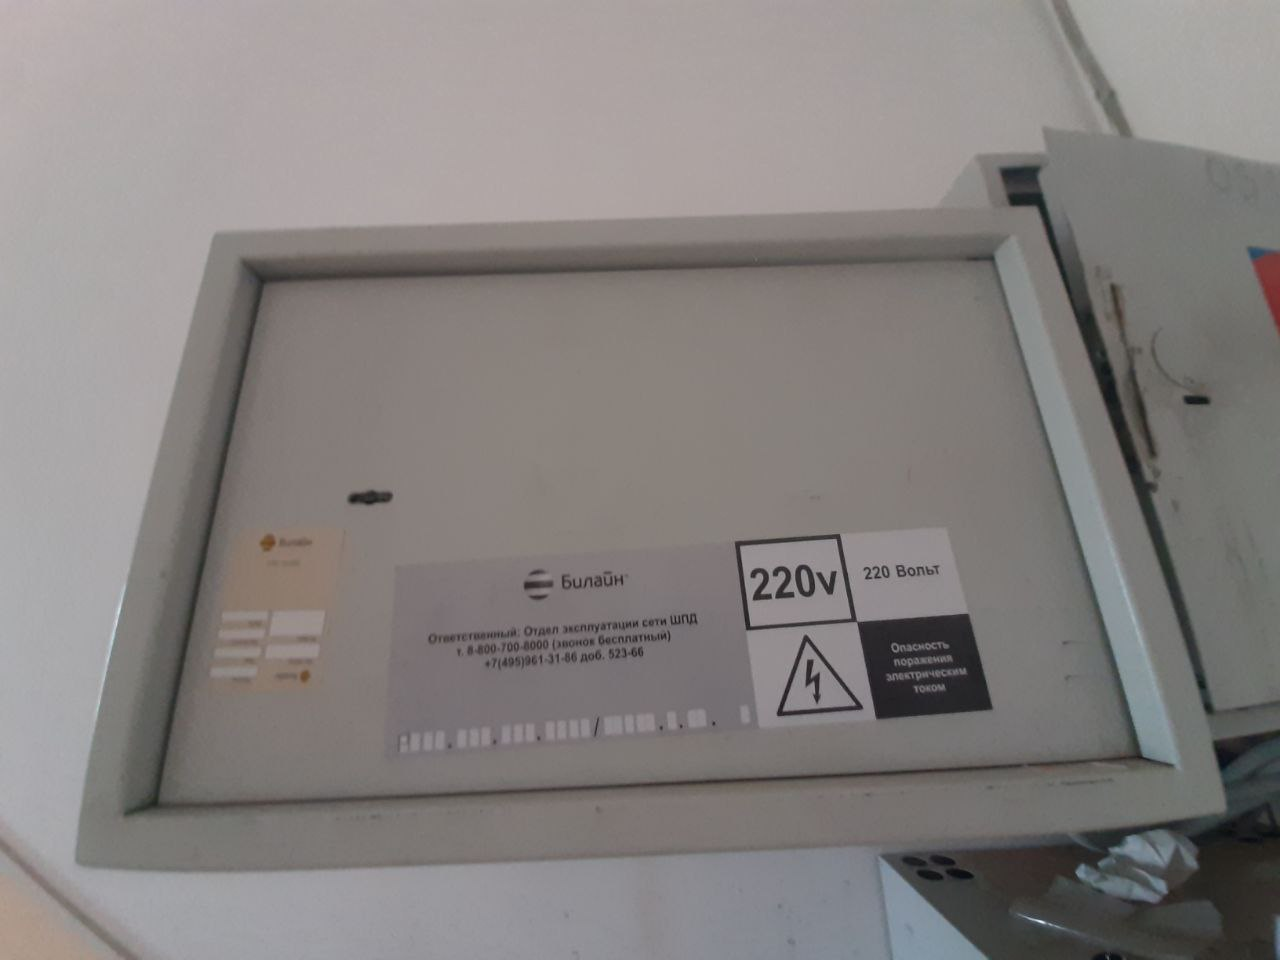shta-7m: (61, 200, 1227, 868)
